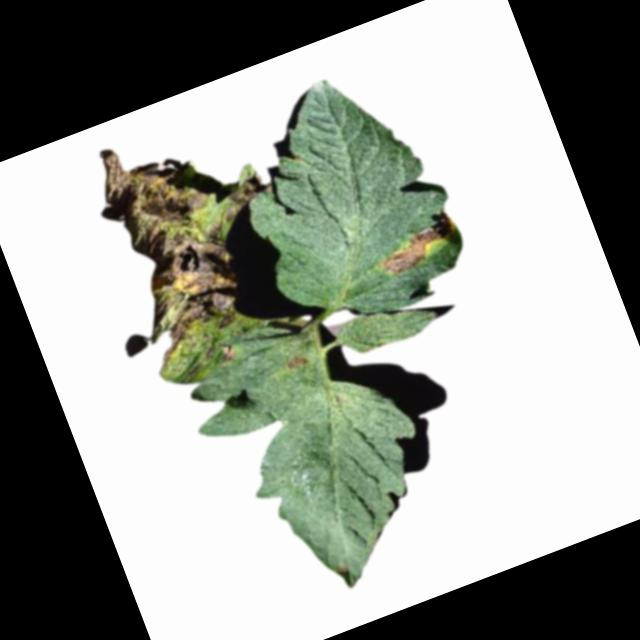Early_blight: (79, 98, 323, 384), (365, 201, 471, 284), (284, 352, 309, 371)
